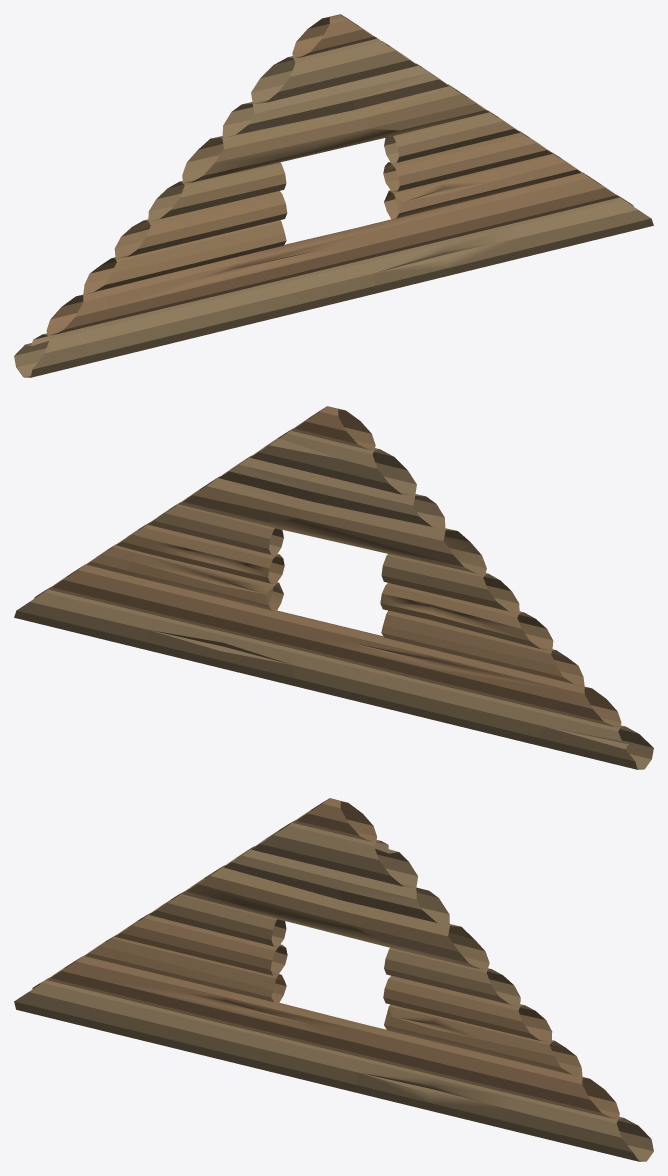
File: rpgpp_ag_roof_end_01_9x4_wall_window_01a.fbx
3 renders of one model, top to bottom at view 1: azimuth 30°, elevation 25°; view 2: azimuth 150°, elevation 25°; view 3: azimuth 330°, elevation 25°, orthographic.
Parts seen in each view (by area): view 1: rpgpp_ag_roof_end_01_9x4_wall_window_01a; view 2: rpgpp_ag_roof_end_01_9x4_wall_window_01a; view 3: rpgpp_ag_roof_end_01_9x4_wall_window_01a.
Boxes of the visible parts, x1,y1,x2,y2 form: rpgpp_ag_roof_end_01_9x4_wall_window_01a: (14,14,653,377); rpgpp_ag_roof_end_01_9x4_wall_window_01a: (14,406,653,769); rpgpp_ag_roof_end_01_9x4_wall_window_01a: (14,798,653,1161).
Size of the model in its own units: 9 by 3.94 by 0.464.
